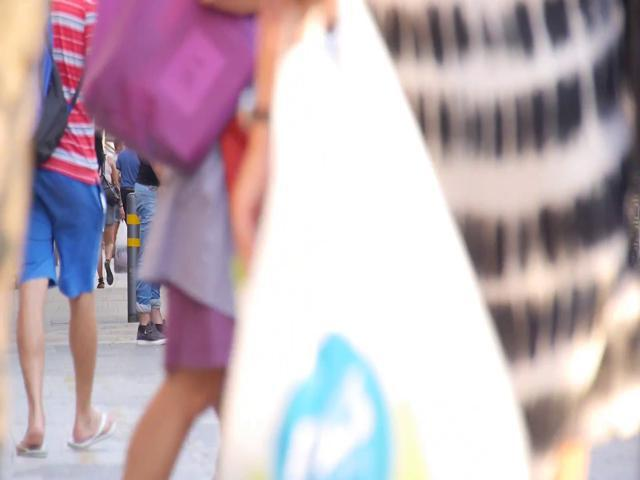shoe: (68, 412, 115, 450), (15, 426, 46, 458), (137, 322, 167, 345), (104, 260, 113, 285)
